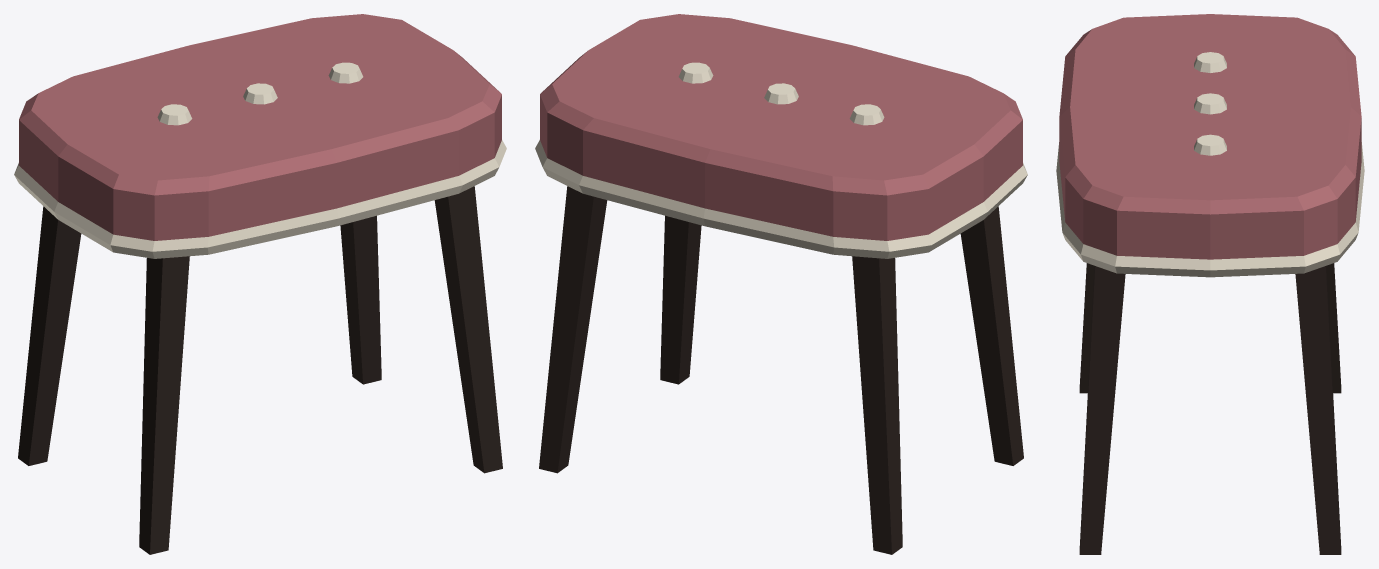
File: FN_Stool_Dressing.obj
3 renders of one model, left to right at view 1: azimuth 30°, elevation 25°; view 2: azimuth 150°, elevation 25°; view 3: azimuth 270°, elevation 25°, orthographic.
Parts seen in each view (by area): view 1: FN_Stool_Dressing; view 2: FN_Stool_Dressing; view 3: FN_Stool_Dressing.
Part boxes in pixels (left/top/right/bottom): FN_Stool_Dressing: left=14, top=14, right=506, bottom=554; FN_Stool_Dressing: left=535, top=14, right=1027, bottom=554; FN_Stool_Dressing: left=1056, top=14, right=1364, bottom=554.
Bounding box in the file's own units: 0.5304 × 0.46 × 0.3468.
1 material, 1 textured.
